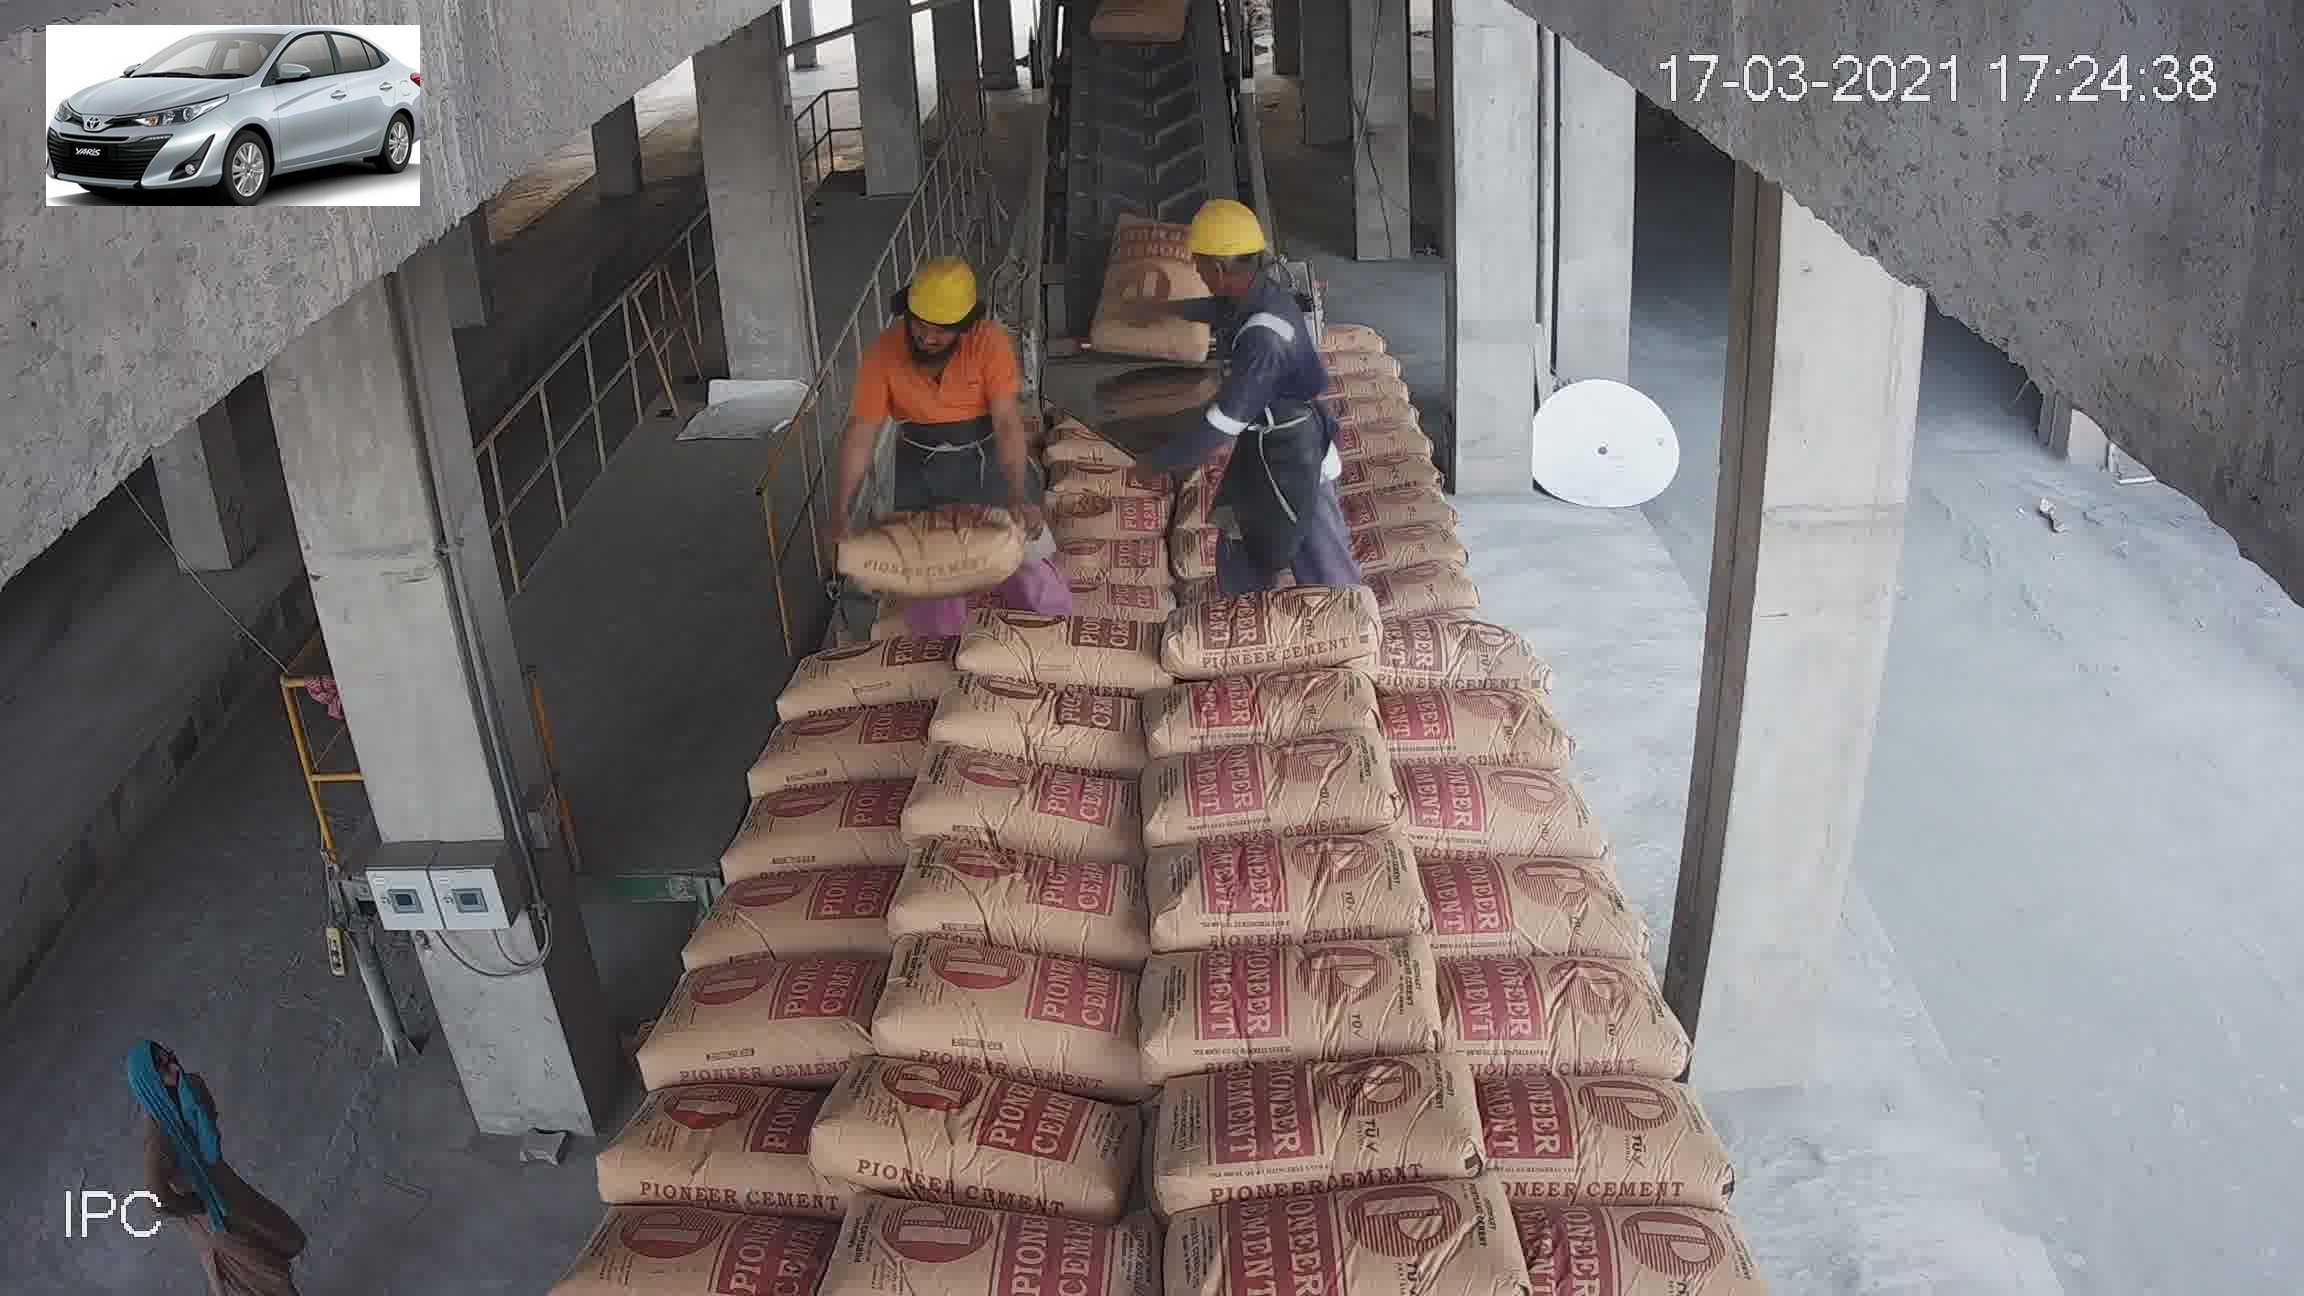bag: (1100, 237, 1211, 324), (1111, 8, 1199, 97)
bag_h: (1108, 1063, 1487, 1226), (1136, 949, 1461, 1090), (793, 1207, 1237, 1296), (1160, 1184, 1510, 1296), (902, 946, 1144, 1105), (1146, 831, 1412, 961), (820, 1082, 1125, 1193), (636, 957, 881, 1089), (1440, 954, 1674, 1090), (1484, 1082, 1755, 1196), (1502, 1196, 1810, 1296), (1150, 733, 1396, 847), (900, 848, 1154, 957), (548, 1207, 840, 1296), (1135, 658, 1372, 766), (907, 760, 1143, 866), (589, 1105, 824, 1206), (1168, 578, 1394, 677), (1434, 843, 1647, 946), (722, 777, 923, 878), (1381, 687, 1582, 786), (731, 706, 945, 798), (1426, 752, 1593, 867), (706, 862, 900, 959), (1130, 481, 1350, 557), (772, 646, 949, 736), (967, 616, 1157, 699), (946, 684, 1143, 763), (1372, 612, 1537, 706), (1307, 559, 1522, 627), (1141, 530, 1377, 585), (989, 416, 1157, 491), (785, 589, 973, 649), (1152, 408, 1320, 472), (824, 540, 978, 608), (1340, 472, 1500, 530), (840, 479, 980, 546), (980, 549, 1124, 611), (850, 449, 1002, 506), (1141, 462, 1331, 506), (1336, 521, 1506, 568), (1340, 418, 1470, 476), (994, 514, 1152, 557), (989, 465, 1130, 506), (934, 399, 1022, 441), (1109, 359, 1171, 396), (937, 361, 1003, 388)
belt: (1032, 9, 1241, 275)
